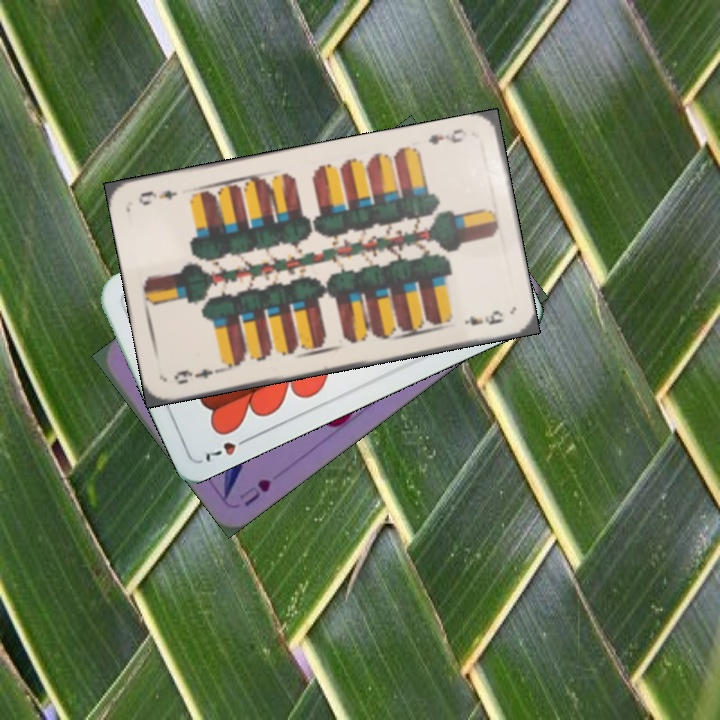E9: (170, 363, 225, 387), (424, 124, 467, 147)
H7: (201, 432, 254, 465)
HU: (235, 474, 274, 510)
